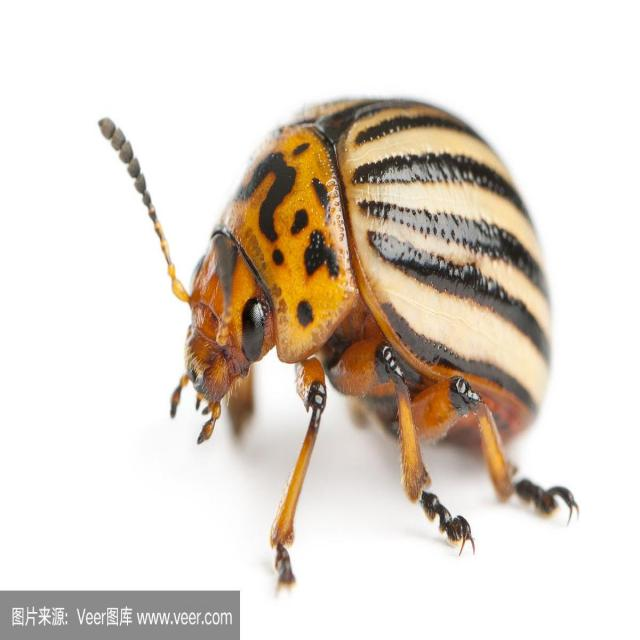ShuCaiHuaBanChong-Grown-: (125, 84, 588, 574)
